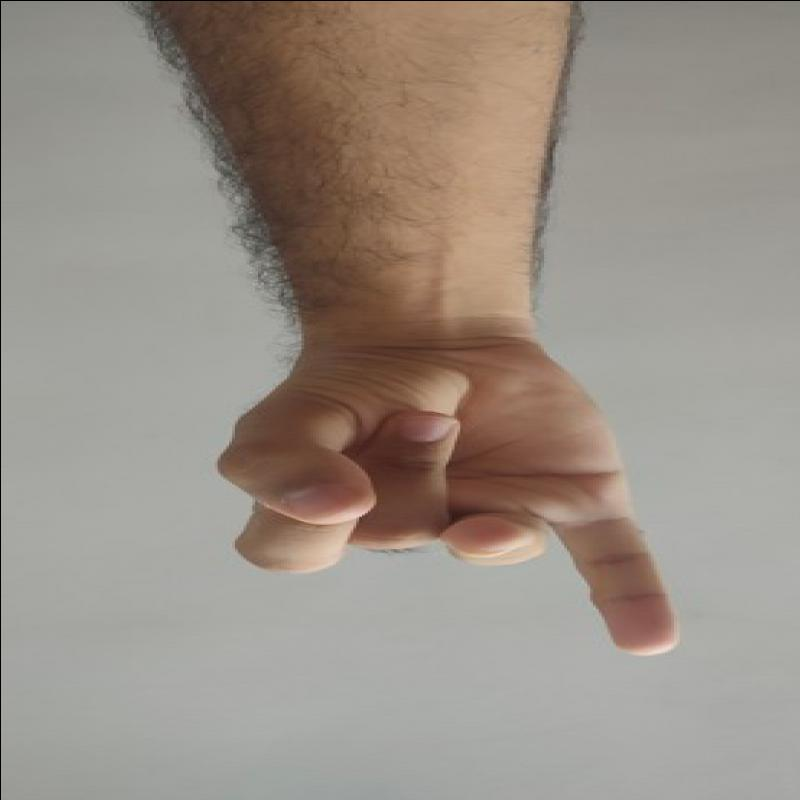Katakam: (209, 332, 694, 668)
